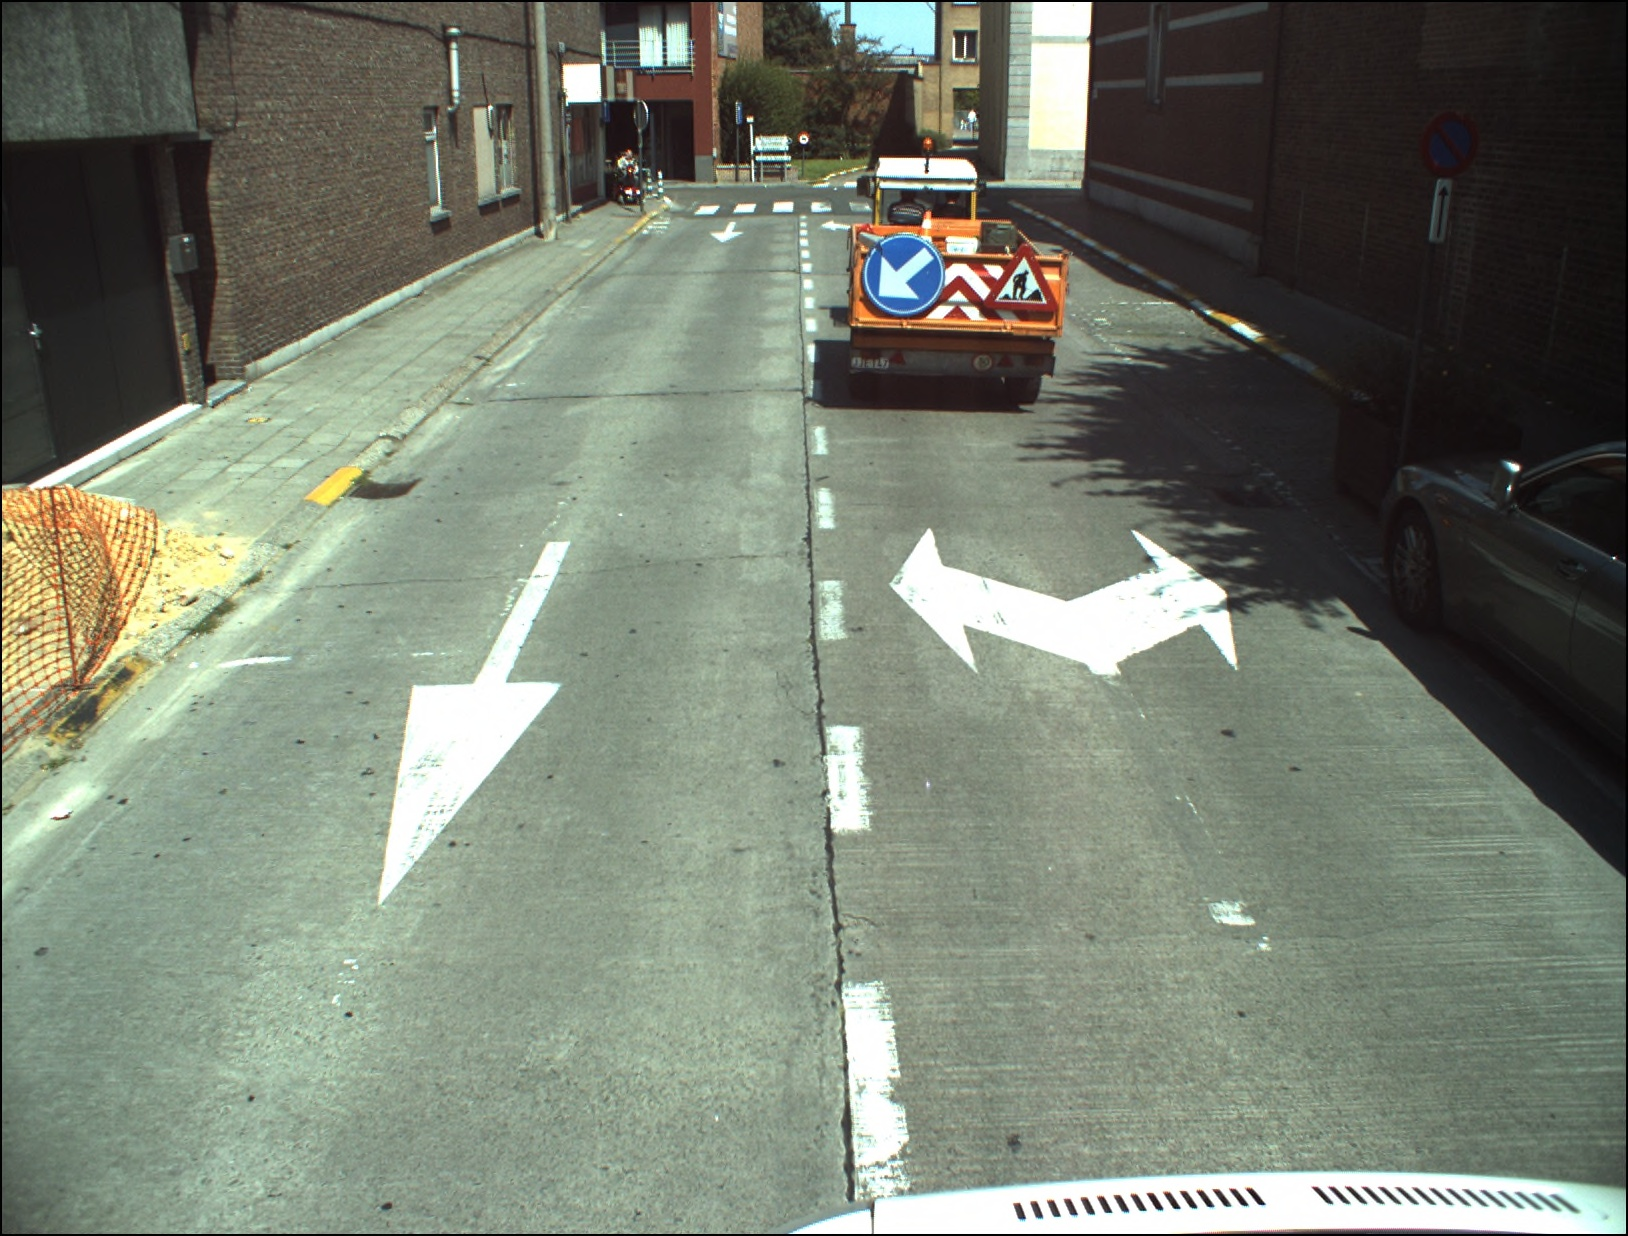construction: (980, 245, 1057, 312)
passleft: (865, 235, 944, 315)
